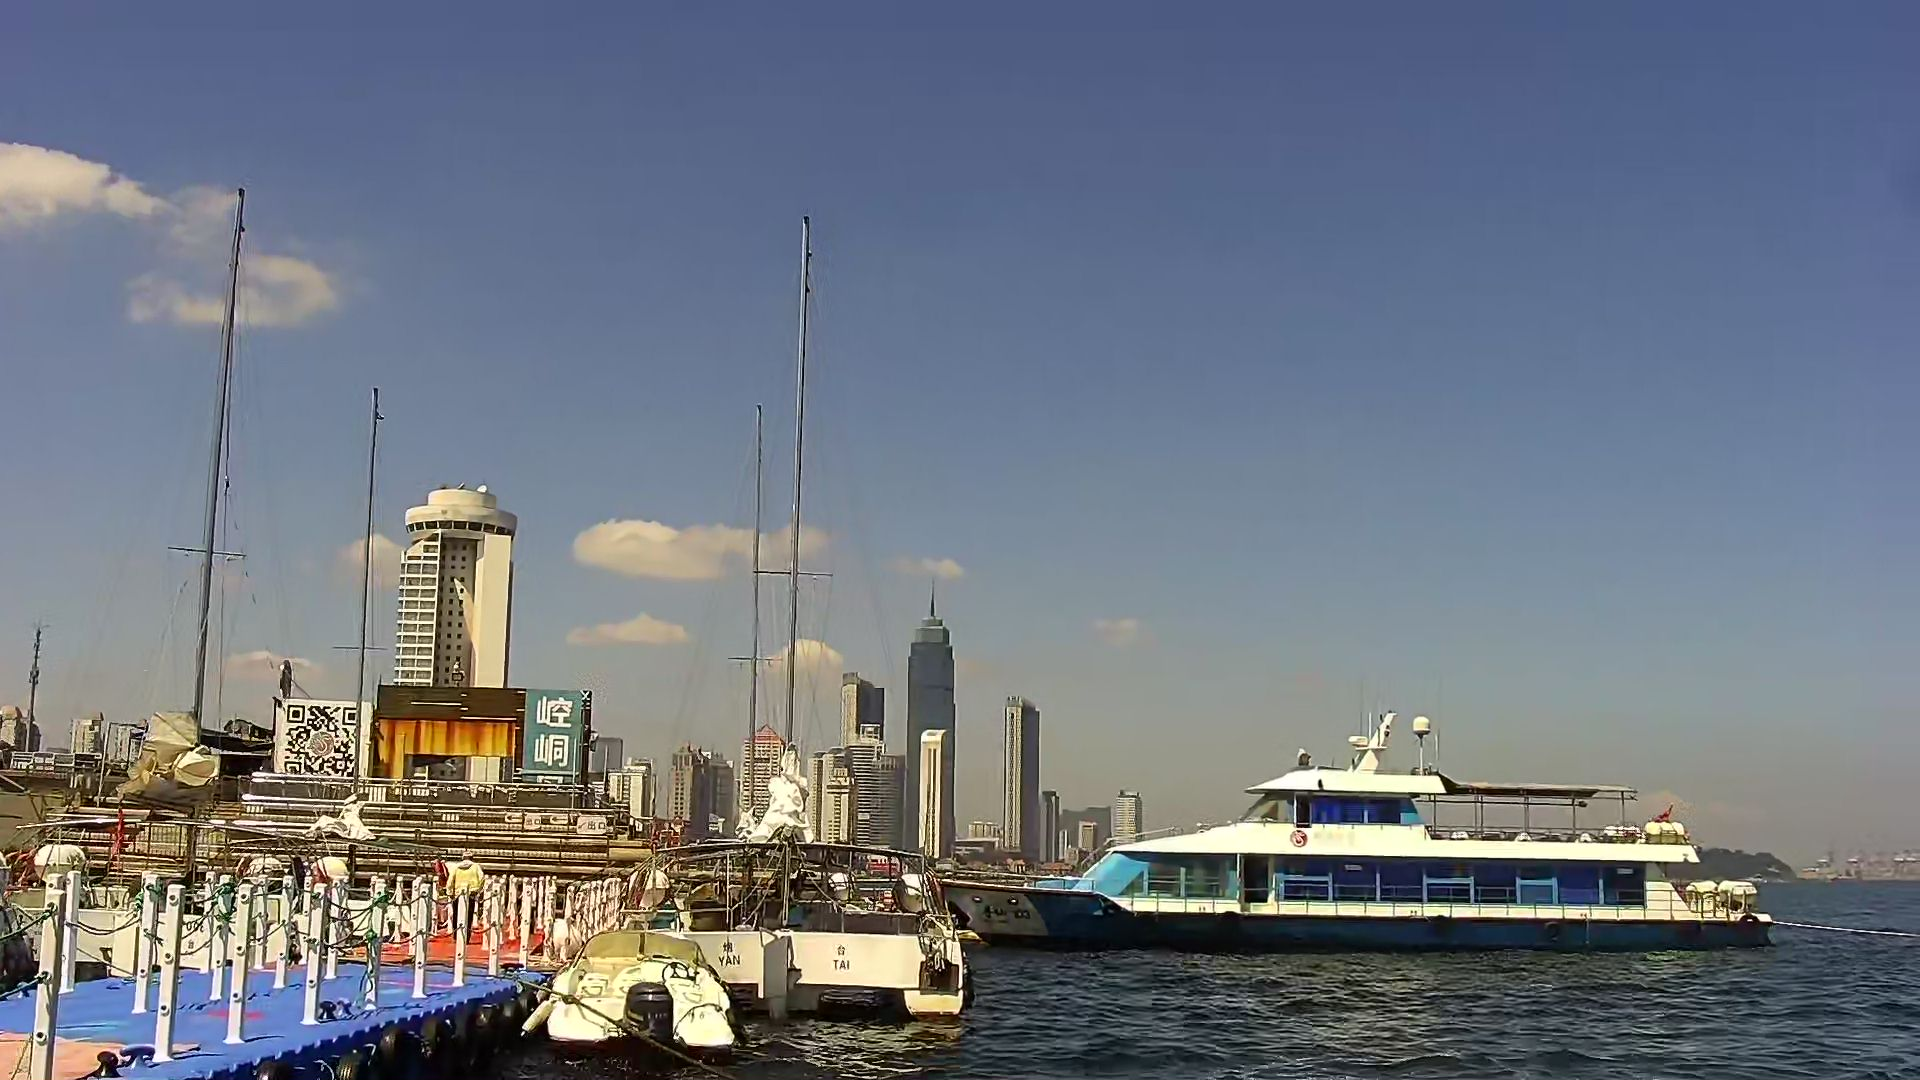boat: (555, 196, 981, 1022), (8, 162, 311, 968), (514, 924, 757, 1060)
harbor: (1, 844, 538, 1069)
ship: (931, 703, 1803, 975)
